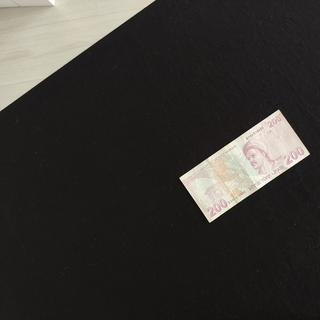200TLBack: (179, 109, 310, 223)
